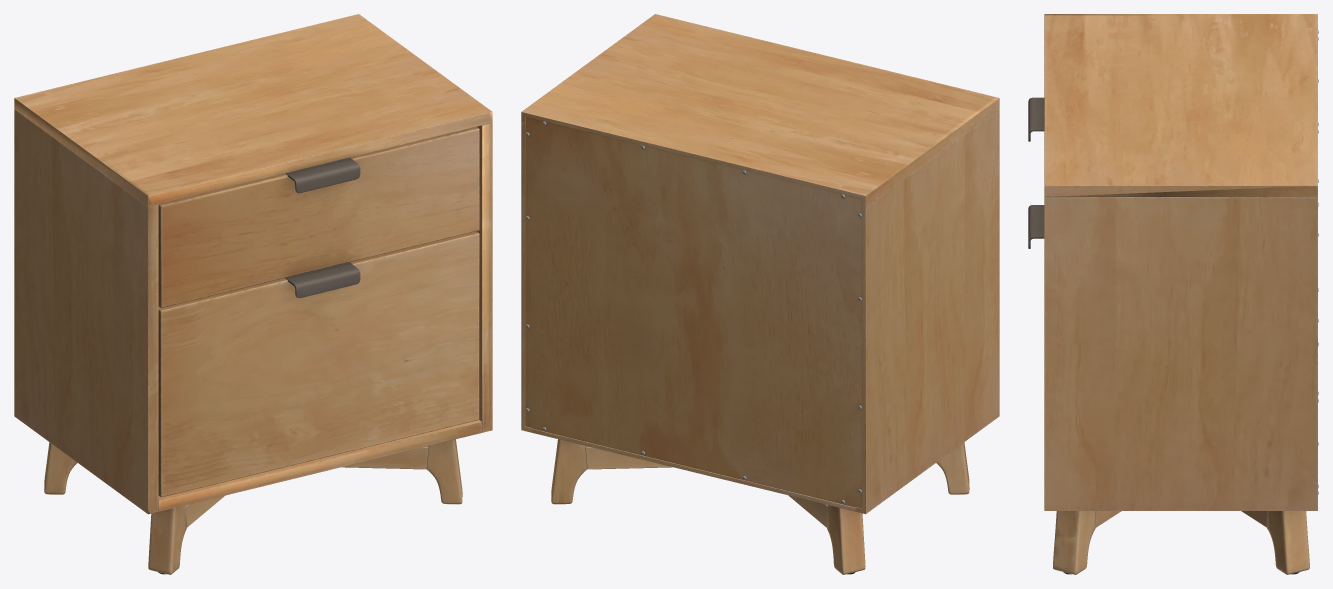
Rendered from B082JH6LSF.glb.
3 views of the same model, side by side, from view 1: azimuth 30°, elevation 25°; view 2: azimuth 150°, elevation 25°; view 3: azimuth 270°, elevation 25° (orthographic). The views are drawn at different scales.
Parts seen in each view (by area): view 1: RootNode; view 2: RootNode; view 3: RootNode.
Part boxes in pixels (box(x1,y1,x2,y2)): RootNode: box(14, 14, 492, 574); RootNode: box(521, 14, 999, 574); RootNode: box(1028, 14, 1318, 574).
Bounding box in the file's own units: 0.5512 × 0.5994 × 0.3937.
1 material, 1 textured.
